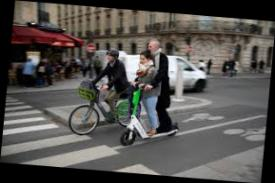multiple: (116, 36, 189, 152)
